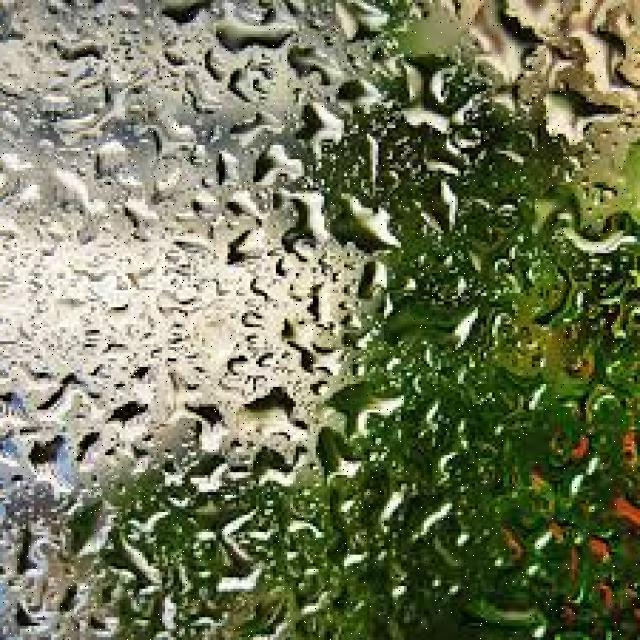raindrop: (529, 178, 640, 262), (376, 286, 484, 364), (395, 51, 484, 142), (462, 2, 546, 96), (308, 380, 417, 440), (322, 188, 406, 260), (223, 389, 328, 444), (538, 80, 622, 147), (264, 188, 332, 264), (54, 492, 120, 564), (288, 95, 346, 175), (404, 168, 463, 240), (216, 0, 303, 45), (248, 438, 311, 492), (244, 138, 312, 187), (182, 451, 240, 504)
